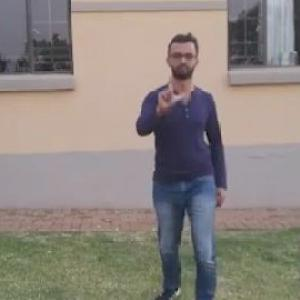land_hand: (154, 66, 190, 111)
